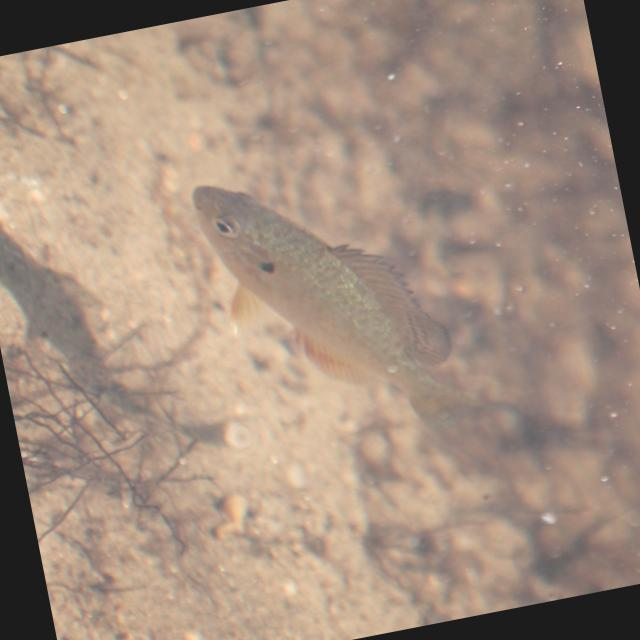Gunes Levregi: (170, 134, 519, 470)
